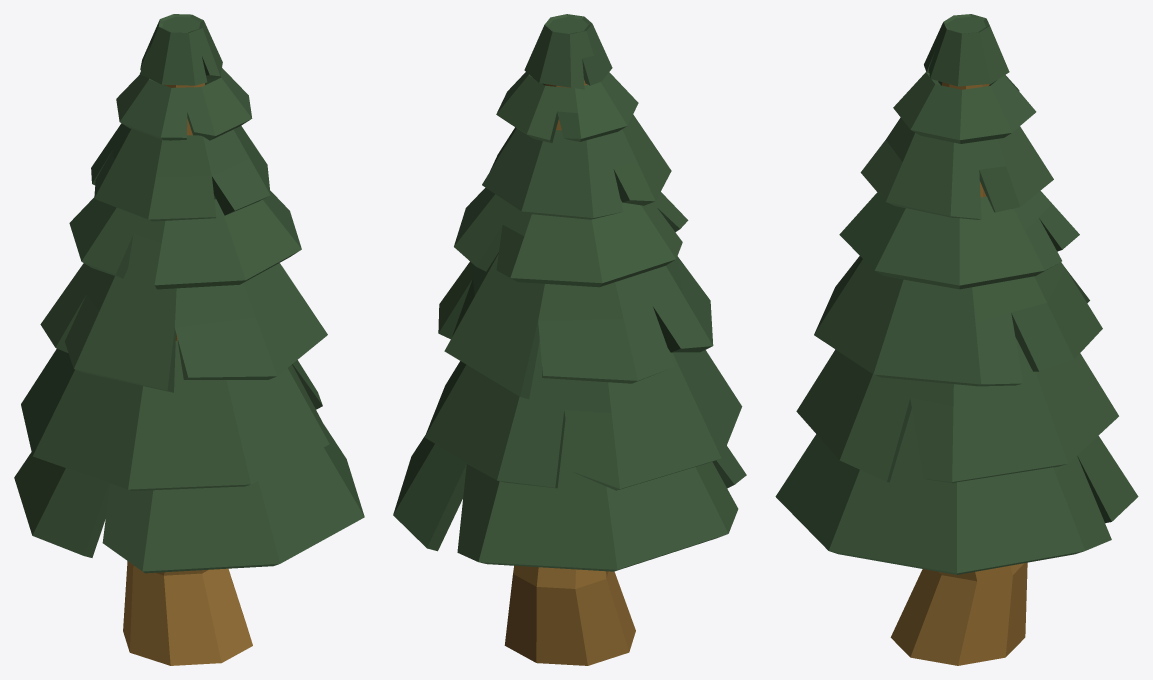
File: Agac_1.fbx
3 renders of one model, left to right at view 1: azimuth 30°, elevation 25°; view 2: azimuth 150°, elevation 25°; view 3: azimuth 270°, elevation 25°, orthographic.
Parts seen in each view (by area): view 1: Circle.001; view 2: Circle.001; view 3: Circle.001.
Boxes of the visible parts, box(x1,y1,x2,y2) form: Circle.001: box(14, 14, 364, 665); Circle.001: box(393, 14, 746, 665); Circle.001: box(775, 14, 1138, 665).
Bounding box in the file's own units: 378 × 703 × 378.
